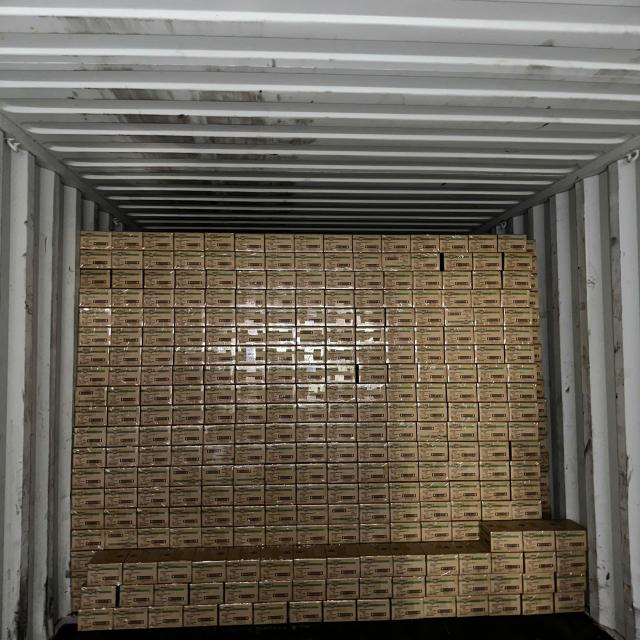Carton: (76, 608, 114, 632), (191, 560, 227, 584), (87, 562, 123, 586), (122, 562, 158, 585), (324, 577, 360, 600), (426, 553, 460, 577), (254, 602, 288, 626), (289, 600, 323, 624), (260, 558, 294, 582), (153, 584, 190, 606), (425, 575, 460, 598), (226, 559, 261, 582), (80, 586, 115, 609), (119, 584, 154, 607), (113, 607, 148, 630), (292, 579, 327, 602), (169, 506, 202, 530), (148, 606, 184, 628), (292, 558, 328, 580), (224, 582, 260, 604), (258, 581, 294, 603), (70, 488, 104, 511), (392, 576, 426, 599), (359, 576, 393, 599), (219, 603, 253, 626), (390, 598, 424, 621), (555, 529, 586, 554), (158, 562, 193, 584), (356, 600, 391, 622), (70, 529, 105, 551), (322, 600, 357, 622), (491, 552, 524, 575), (459, 553, 492, 576), (190, 581, 223, 604), (327, 503, 360, 526), (488, 532, 524, 553), (326, 558, 362, 579), (106, 426, 140, 448), (136, 507, 170, 529), (104, 529, 138, 551), (232, 525, 266, 547), (522, 572, 556, 594), (490, 573, 524, 595), (458, 574, 492, 596), (456, 595, 490, 617), (77, 327, 112, 348), (183, 605, 218, 626), (111, 268, 144, 290), (140, 385, 173, 407), (522, 594, 555, 616), (393, 555, 426, 577), (111, 326, 144, 348), (138, 467, 171, 489), (74, 385, 107, 407), (360, 555, 393, 577), (201, 506, 234, 528), (139, 445, 172, 467), (202, 485, 235, 507), (233, 506, 266, 528), (358, 502, 391, 524), (169, 527, 202, 549), (556, 550, 589, 572), (77, 307, 113, 327), (70, 468, 106, 488), (77, 231, 113, 251), (72, 427, 106, 448), (78, 248, 112, 269), (76, 346, 110, 367), (72, 447, 106, 468), (70, 509, 104, 530), (136, 528, 170, 549), (200, 527, 234, 548), (419, 481, 450, 504), (328, 483, 359, 506), (358, 461, 389, 484), (555, 592, 587, 614), (170, 466, 202, 488), (204, 365, 236, 387), (556, 571, 588, 593), (113, 252, 145, 274), (296, 524, 328, 546), (137, 487, 169, 509), (525, 551, 557, 573), (108, 446, 140, 468), (418, 460, 450, 482), (233, 464, 265, 486), (424, 596, 456, 618), (107, 386, 140, 407), (523, 531, 556, 552), (144, 327, 177, 348), (111, 307, 144, 328), (234, 444, 267, 465), (105, 467, 138, 488), (74, 406, 107, 427), (78, 287, 111, 308), (296, 505, 329, 526), (264, 463, 297, 484), (105, 488, 138, 509), (265, 525, 298, 546), (266, 422, 297, 444), (296, 442, 327, 464), (172, 364, 203, 386), (448, 442, 479, 464), (328, 462, 359, 484), (108, 366, 142, 386), (173, 385, 205, 406), (235, 365, 267, 386), (266, 405, 298, 426), (108, 407, 140, 428), (174, 288, 206, 309), (172, 425, 204, 446), (390, 522, 422, 543), (172, 447, 204, 468), (142, 346, 174, 367), (510, 440, 542, 461), (140, 365, 172, 386), (111, 288, 143, 309), (171, 487, 203, 508), (296, 463, 328, 484), (143, 289, 175, 310), (204, 444, 236, 465), (265, 486, 297, 507), (296, 485, 328, 506), (387, 461, 419, 482), (420, 501, 452, 522), (481, 500, 513, 521), (449, 404, 479, 426), (203, 405, 236, 425), (451, 482, 481, 504), (235, 384, 268, 404), (328, 442, 358, 464), (203, 424, 236, 444), (104, 509, 137, 529), (76, 366, 109, 386), (233, 485, 266, 505), (236, 404, 267, 425), (446, 345, 477, 366), (266, 364, 297, 385), (417, 402, 448, 423), (296, 422, 327, 443), (175, 327, 206, 348), (359, 484, 390, 505), (507, 382, 538, 403), (389, 482, 420, 503), (356, 328, 387, 349), (480, 480, 511, 501), (421, 521, 452, 542), (206, 327, 238, 347), (205, 346, 237, 366), (173, 406, 205, 426), (141, 406, 173, 426), (477, 421, 509, 441), (508, 422, 540, 442), (114, 230, 146, 250), (140, 426, 172, 446), (510, 460, 542, 480), (359, 523, 391, 543), (355, 345, 387, 365), (508, 402, 540, 422), (202, 465, 234, 485), (265, 505, 297, 525), (328, 524, 360, 544), (510, 480, 542, 500), (297, 403, 327, 424), (326, 364, 356, 385), (446, 308, 476, 329), (387, 402, 417, 423), (297, 383, 327, 404), (357, 402, 387, 423), (417, 421, 447, 442), (354, 270, 384, 291), (327, 422, 357, 443), (358, 442, 388, 463), (266, 328, 296, 349), (387, 422, 417, 443), (356, 422, 386, 443), (79, 269, 112, 288), (172, 232, 205, 251), (489, 597, 522, 616), (109, 347, 142, 366), (479, 402, 510, 422), (477, 364, 508, 384), (387, 364, 418, 384), (443, 255, 474, 275), (446, 364, 477, 384), (414, 289, 445, 309), (412, 270, 443, 290), (237, 289, 268, 309), (144, 270, 175, 290), (266, 443, 297, 463), (417, 364, 448, 384), (479, 441, 510, 461), (236, 270, 267, 290), (477, 382, 508, 402), (266, 346, 297, 366), (474, 345, 505, 365), (206, 289, 237, 309), (357, 364, 388, 384), (265, 251, 296, 271), (507, 364, 538, 384), (234, 424, 265, 444), (324, 233, 353, 254), (326, 382, 355, 403), (174, 308, 206, 327), (143, 253, 175, 272), (174, 346, 206, 365), (236, 308, 268, 327), (204, 385, 236, 404), (236, 346, 266, 366), (327, 403, 357, 423), (410, 252, 440, 272), (446, 326, 476, 346), (324, 289, 354, 309), (444, 289, 474, 309), (354, 289, 384, 309), (416, 383, 446, 403), (449, 462, 479, 482), (480, 460, 510, 480), (416, 309, 446, 329), (266, 272, 296, 292), (386, 326, 416, 346), (294, 308, 324, 328), (386, 383, 416, 403), (384, 344, 414, 364), (325, 308, 355, 328), (295, 251, 325, 271), (447, 383, 477, 403), (385, 289, 415, 309), (416, 346, 446, 366), (266, 384, 296, 404), (501, 288, 531, 308), (504, 325, 534, 345), (505, 344, 535, 364), (390, 502, 420, 522), (512, 500, 542, 520), (206, 308, 237, 327), (175, 270, 206, 289), (206, 253, 237, 272), (503, 252, 534, 271), (355, 308, 386, 327), (235, 252, 266, 271), (451, 501, 482, 520), (356, 383, 387, 402), (268, 289, 297, 309), (326, 326, 355, 346), (473, 270, 502, 290), (296, 326, 325, 346), (296, 364, 325, 384), (326, 345, 355, 365), (416, 326, 445, 346), (295, 289, 324, 309), (296, 346, 325, 366), (473, 309, 502, 329), (452, 521, 481, 541), (142, 308, 174, 326), (206, 270, 236, 289), (472, 252, 502, 271), (324, 252, 354, 271), (442, 271, 472, 290), (325, 271, 355, 290), (353, 252, 383, 271), (383, 253, 413, 272), (238, 327, 268, 346), (474, 326, 504, 345), (144, 232, 174, 251), (418, 442, 448, 461), (471, 289, 501, 308), (264, 233, 294, 252), (439, 234, 469, 253), (175, 254, 206, 272), (387, 442, 418, 460), (293, 234, 324, 252), (384, 271, 413, 290), (267, 308, 296, 327), (410, 234, 439, 253), (448, 424, 478, 442), (206, 233, 236, 251), (380, 235, 410, 253), (234, 234, 264, 252), (498, 234, 528, 252), (503, 308, 533, 326), (296, 271, 325, 289), (386, 311, 415, 329), (503, 271, 532, 289), (353, 235, 382, 252), (470, 235, 498, 252)
